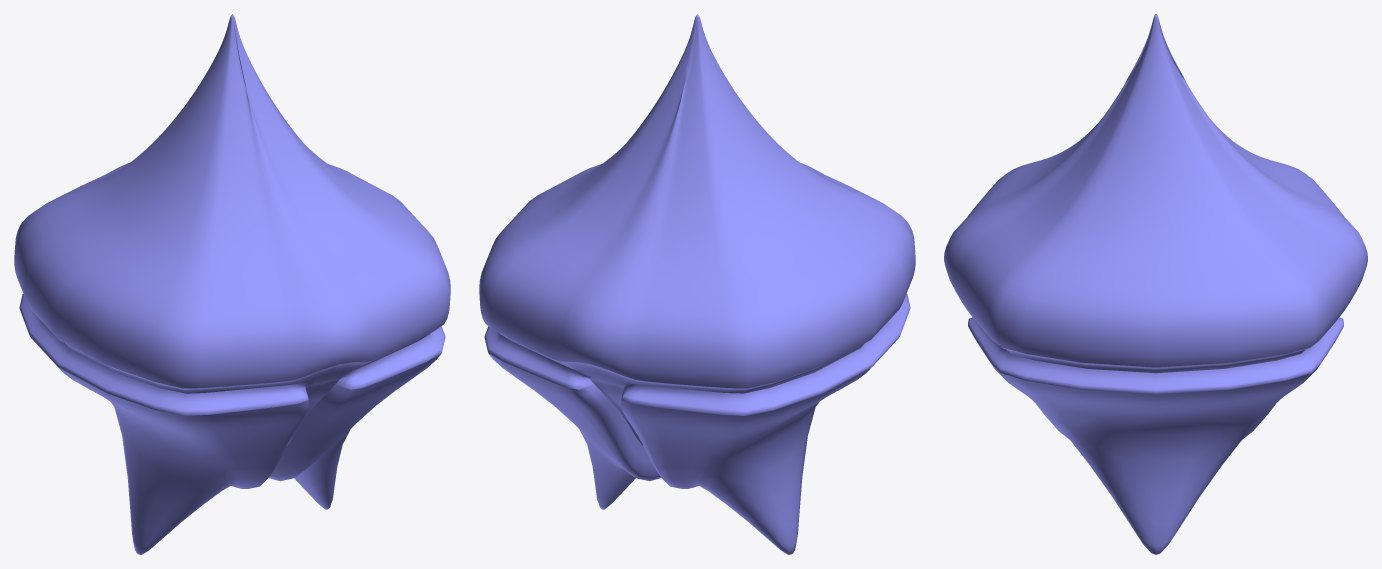
The model's file is protoperidinium.fbx.
The picture shows the model from 3 angles, left to right: view 1: azimuth 30°, elevation 25°; view 2: azimuth 150°, elevation 25°; view 3: azimuth 270°, elevation 25°; orthographic projection. The views are drawn at different scales.
Visible parts, largest first — view 1: Plankton.002; view 2: Plankton.002; view 3: Plankton.002.
Boxes of the visible parts, x1=… form: Plankton.002: x1=14, y1=14, x2=450, y2=554; Plankton.002: x1=479, y1=14, x2=915, y2=554; Plankton.002: x1=944, y1=14, x2=1367, y2=554.
Bounding box in the file's own units: 166 × 231 × 178.
